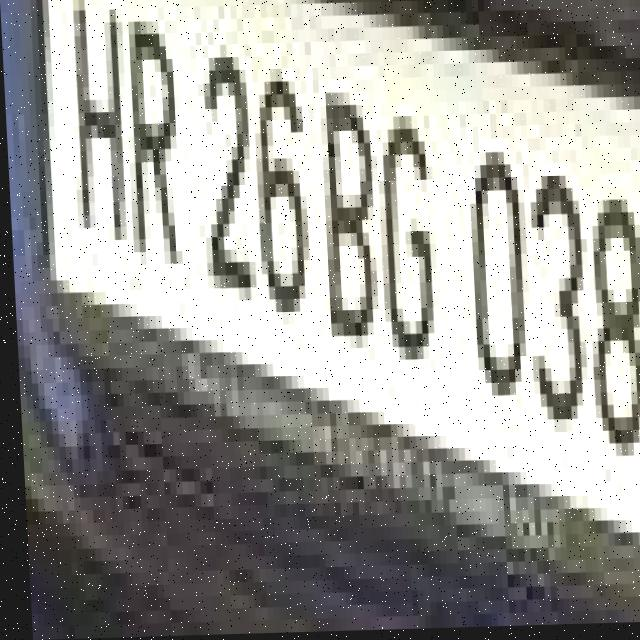plate: (30, 0, 640, 639)
